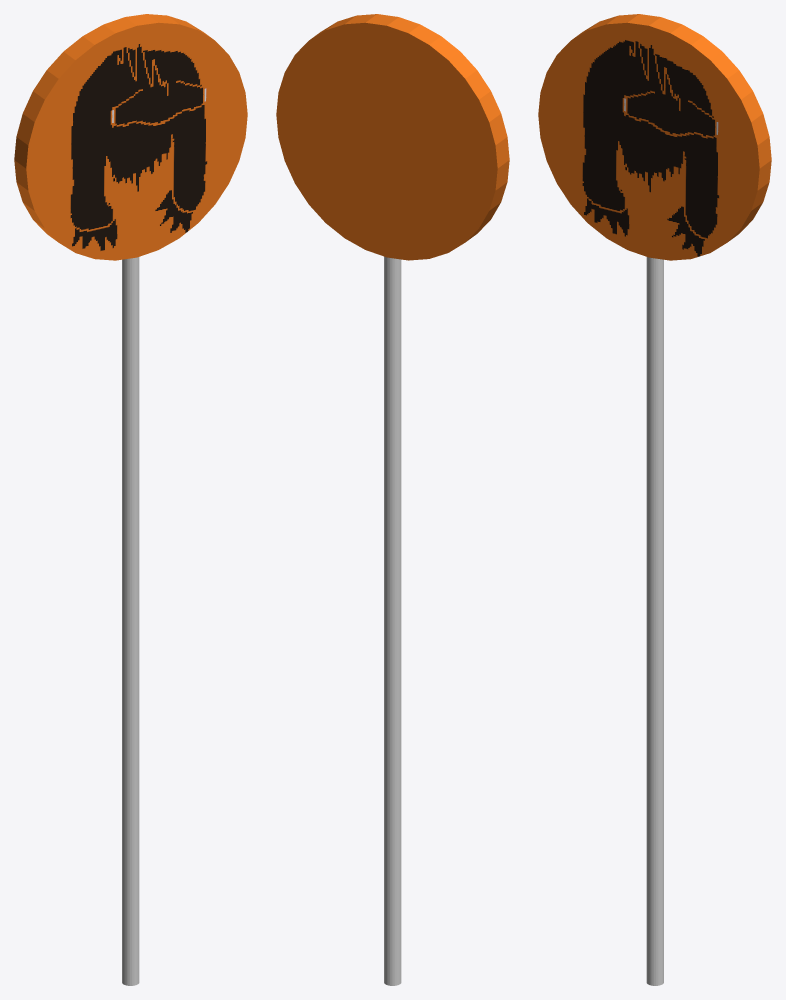
File: KaijuTarget1.fbx
3 views of the same model, side by side, from view 1: azimuth 30°, elevation 25°; view 2: azimuth 150°, elevation 25°; view 3: azimuth 330°, elevation 25° (orthographic).
Visible parts, largest first — view 1: Cylinder.018, Cylinder.017; view 2: Cylinder.018, Cylinder.017; view 3: Cylinder.018, Cylinder.017.
Boxes of the visible parts, box(x1,y1,x2,y2) form: Cylinder.018: box(14, 14, 247, 260); Cylinder.017: box(122, 257, 139, 985); Cylinder.018: box(276, 14, 509, 260); Cylinder.017: box(384, 256, 401, 985); Cylinder.018: box(538, 14, 771, 260); Cylinder.017: box(646, 257, 663, 985).
Bounding box in the file's own units: 31.4 × 130 × 2.95.
